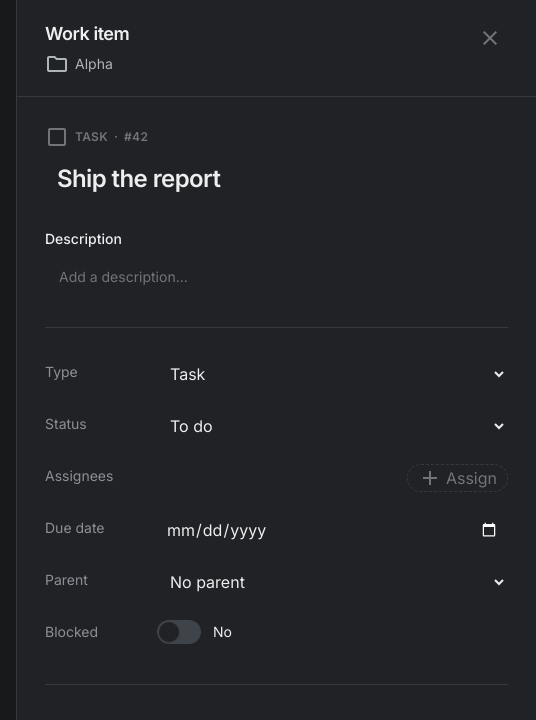
Work Item drawer (edit) — Assignee picker › stays open while typing in the search input
The image size is (536, 720).
Step 1. Click the button with aria-label "add assignee" → (457, 478), box top-left (407, 464), bottom-right (508, 492)
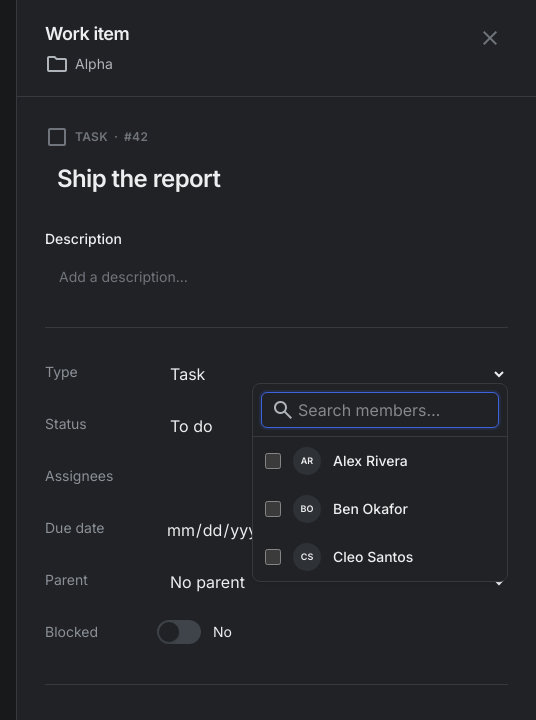
Step 2. Press the mouse on the search field with placeholder "Search members…" → (380, 410), box top-left (261, 392), bottom-right (499, 428)
Step 3. Type "ok" into the search field with placeholder "Search members…" → (380, 410), box top-left (261, 392), bottom-right (499, 428)
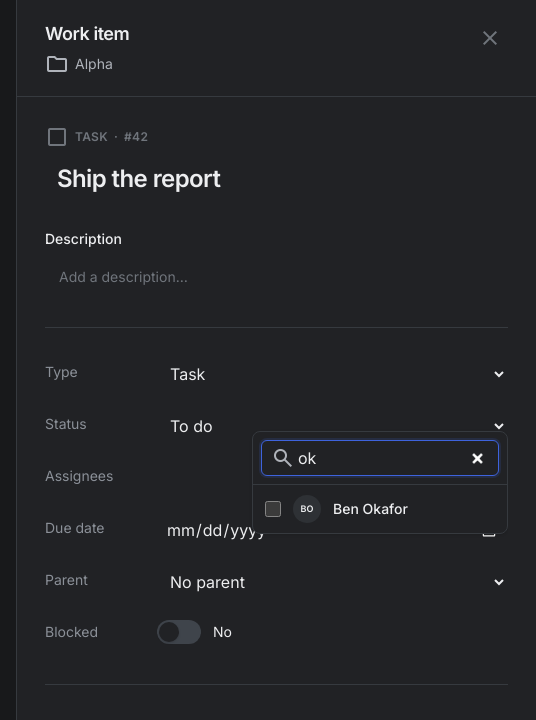
Now the checkbox labelled "BO Ben Okafor" is shown, box top-left (265, 500), bottom-right (281, 516)
Now the text "Cleo Santos" is gone
